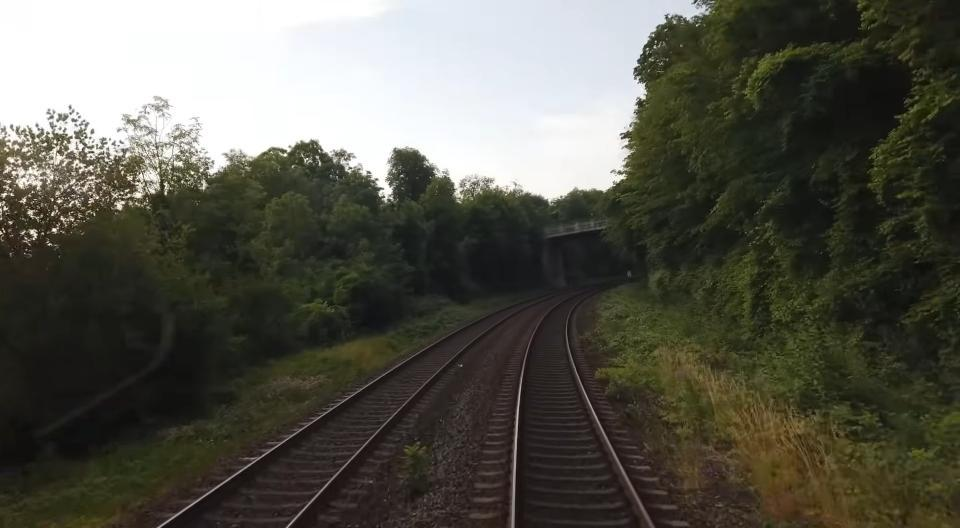Plant: (0, 298, 508, 528), (585, 287, 960, 528), (398, 441, 432, 496)
